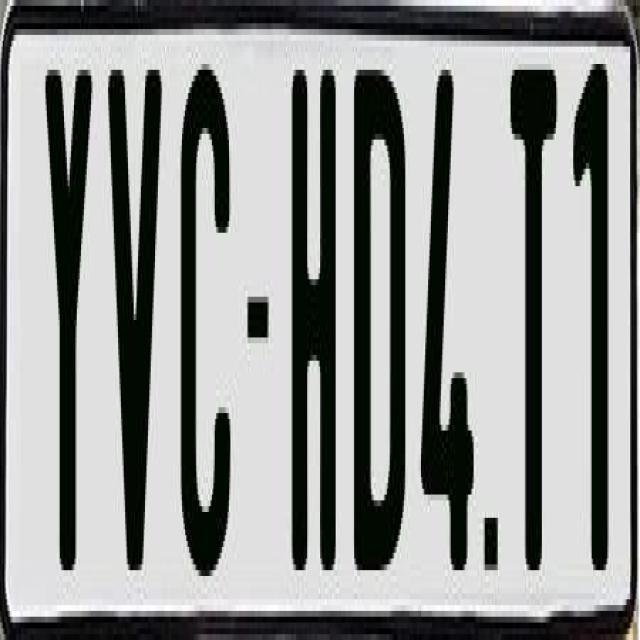1: (568, 64, 612, 570)
4: (419, 52, 474, 553)
C: (178, 52, 232, 582)
D: (352, 58, 406, 559)
H: (292, 52, 338, 576)
T: (511, 52, 564, 564)
V: (105, 52, 162, 588)
Y: (41, 70, 97, 600)
